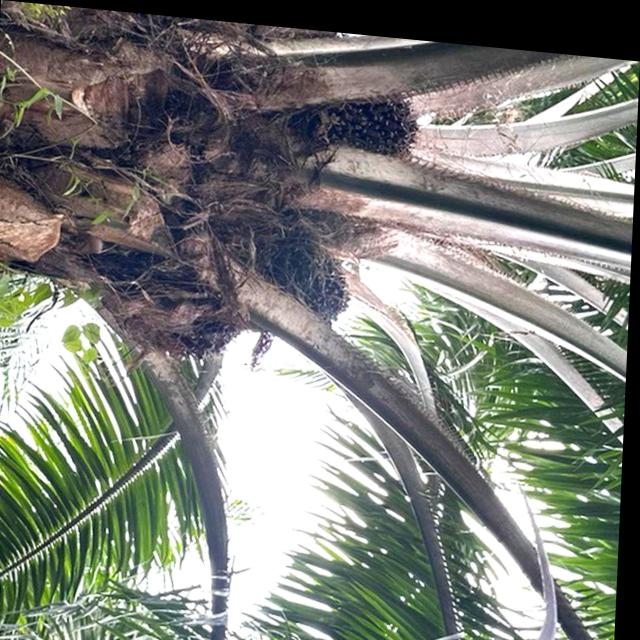unripe: (294, 65, 436, 177), (126, 262, 260, 377), (242, 215, 364, 334)
